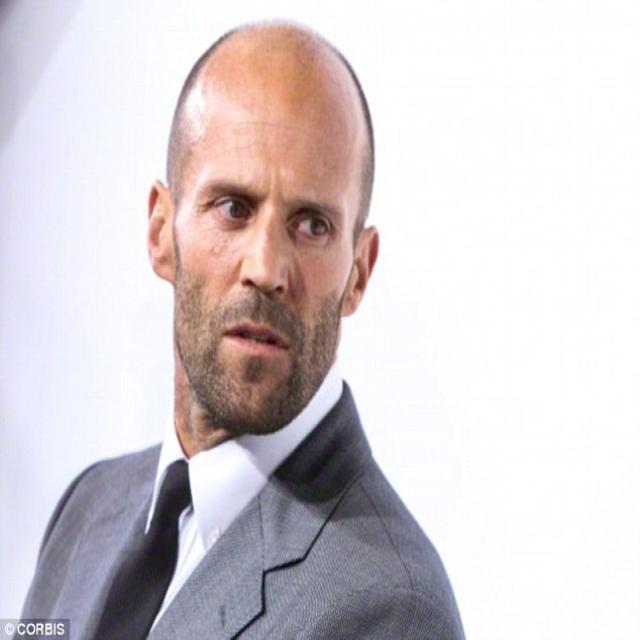no_helmet: (146, 8, 393, 246)
